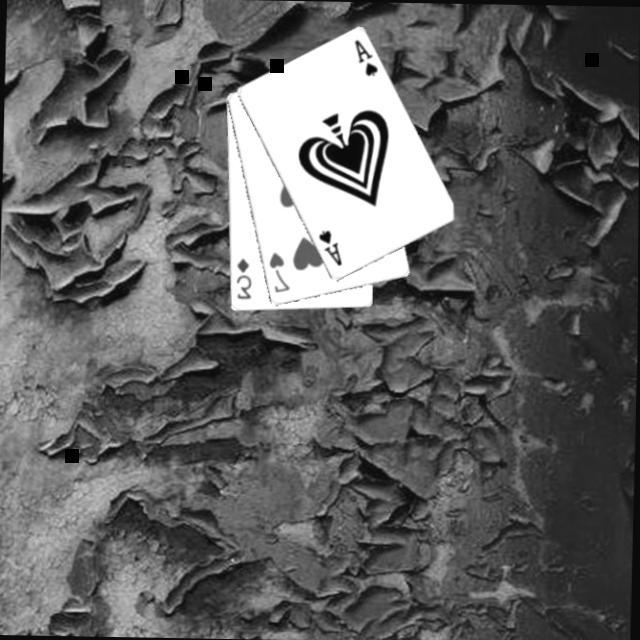3D: (233, 252, 255, 299)
7H: (266, 247, 294, 294)
AS: (351, 35, 383, 79), (315, 224, 346, 267)
